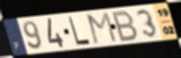3: (136, 8, 159, 39)
4: (47, 17, 65, 49)
9: (23, 20, 44, 52)
B: (111, 9, 140, 43)
L: (67, 15, 92, 47)
M: (86, 11, 119, 46)
